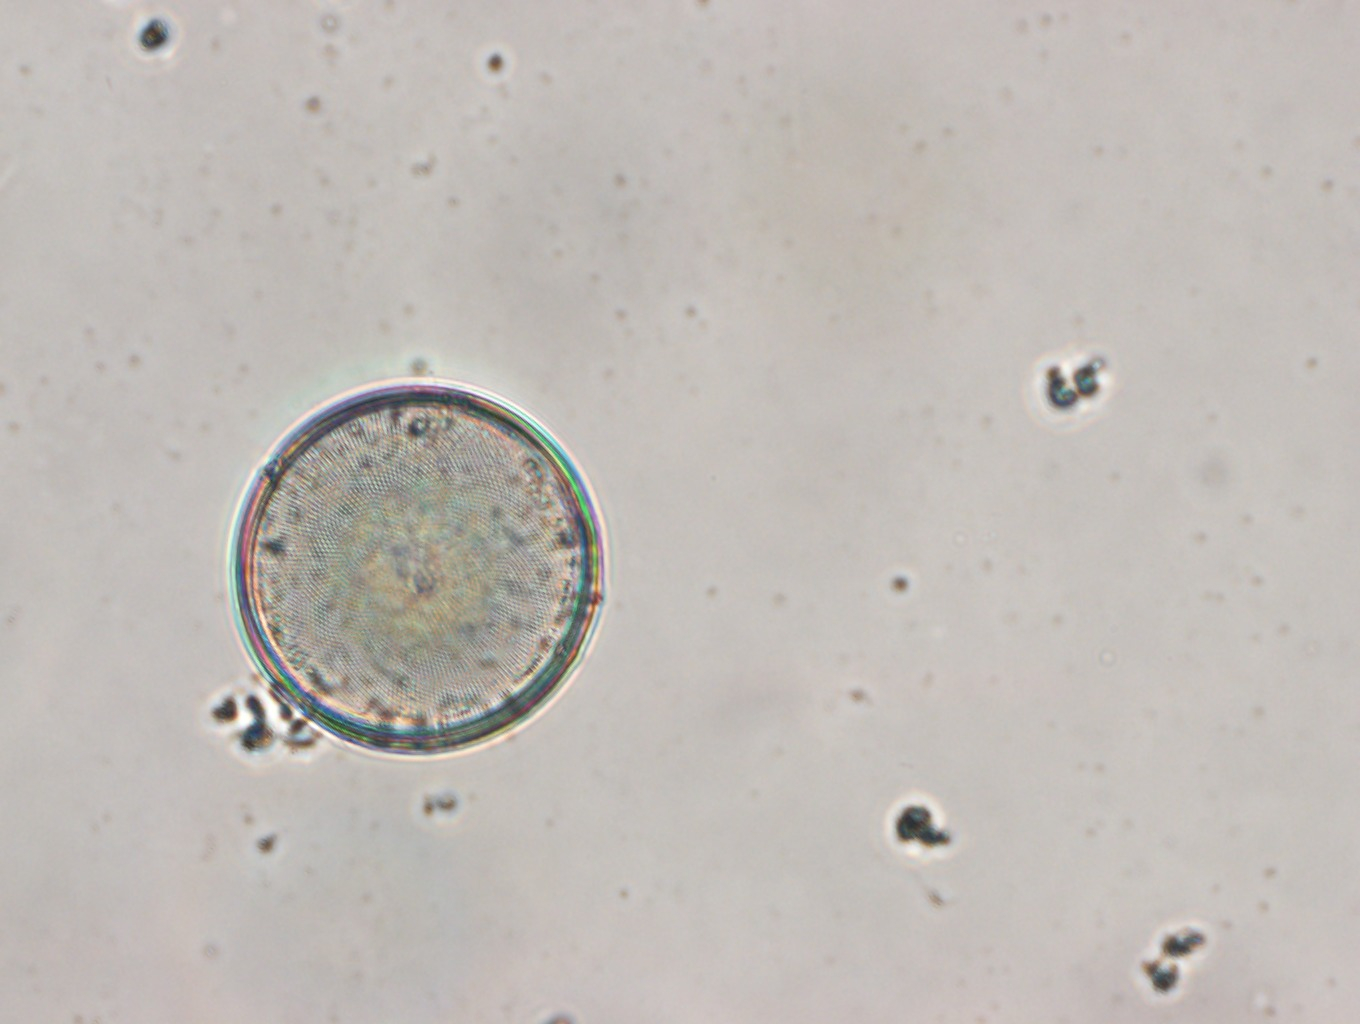coscinodiscus: (226, 380, 606, 759)
